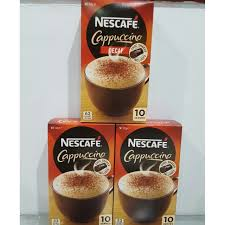nescafe-cappe: (80, 1, 151, 121), (46, 116, 114, 225), (116, 123, 180, 225)
